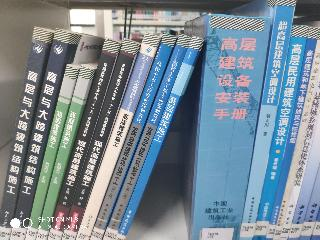book-spine: (180, 10, 269, 240), (102, 34, 191, 240), (73, 32, 161, 240), (114, 36, 203, 240), (89, 33, 176, 240), (59, 39, 139, 240), (46, 38, 120, 240), (236, 0, 296, 240), (8, 29, 70, 240), (249, 23, 309, 240), (0, 27, 53, 240), (265, 27, 318, 240), (271, 35, 320, 239), (35, 66, 92, 240), (23, 66, 78, 240), (280, 80, 320, 240)
